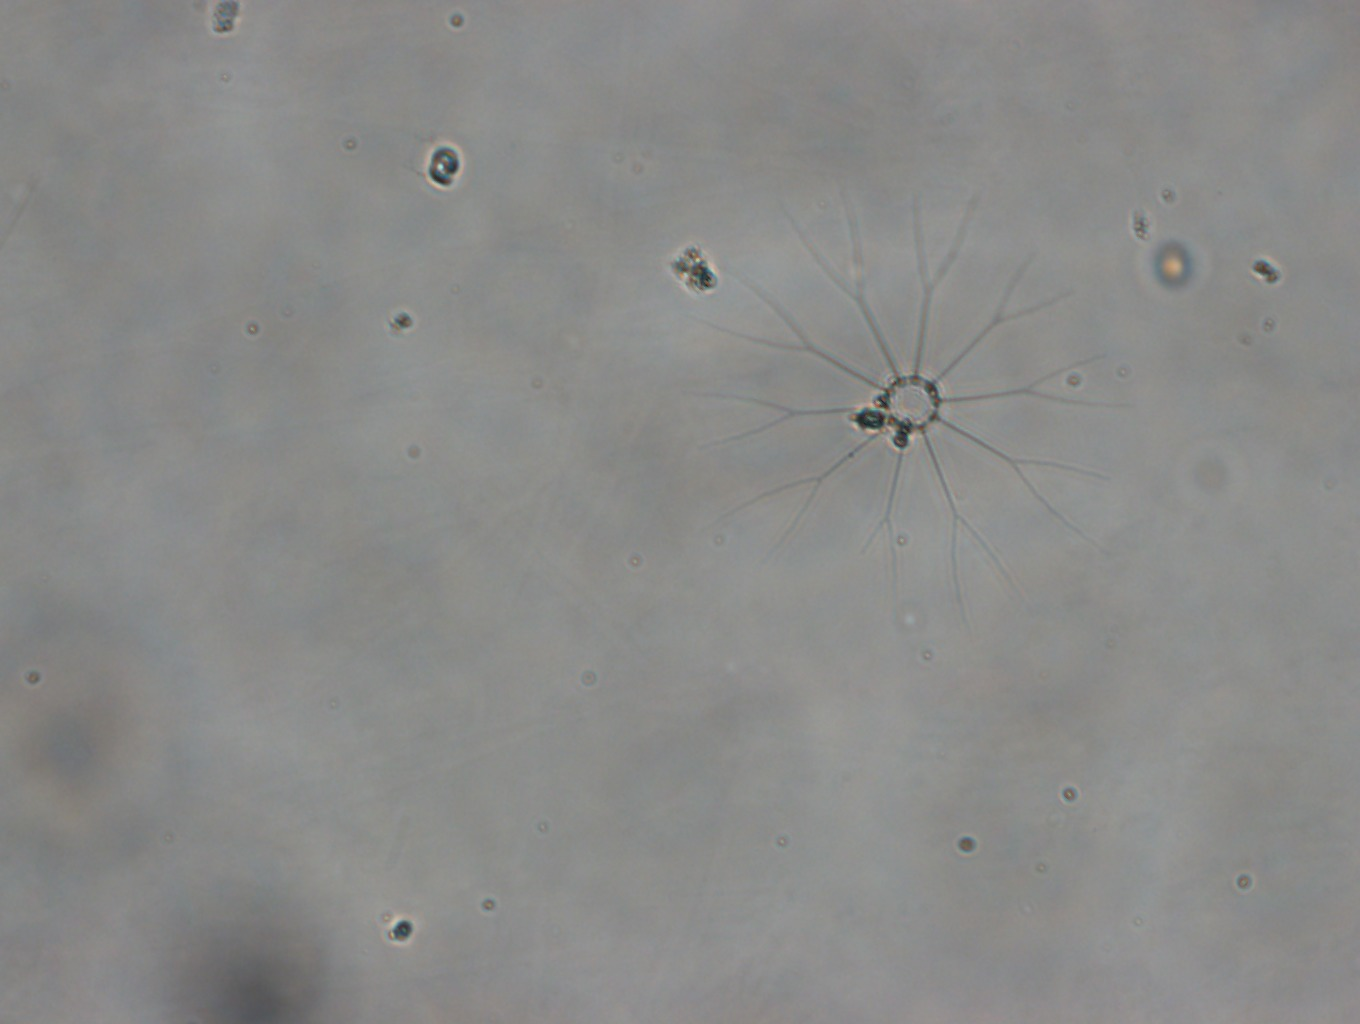bacteriastrum: (671, 177, 1139, 622)
